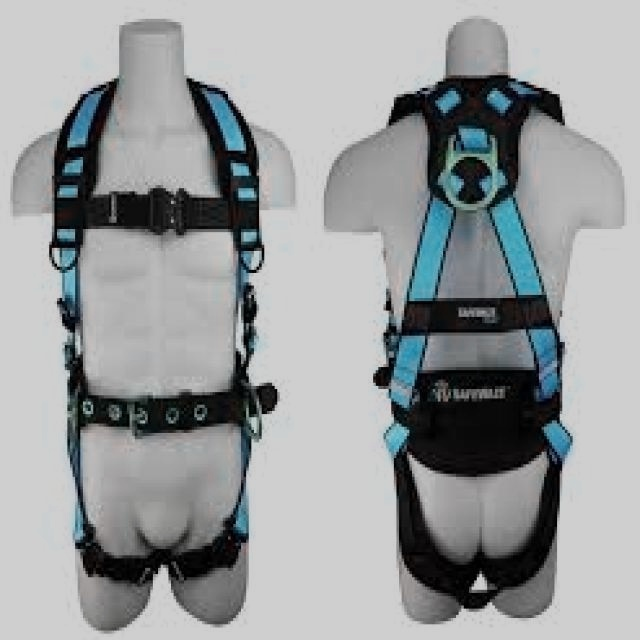safety belt: (345, 55, 618, 615), (19, 98, 298, 607)
